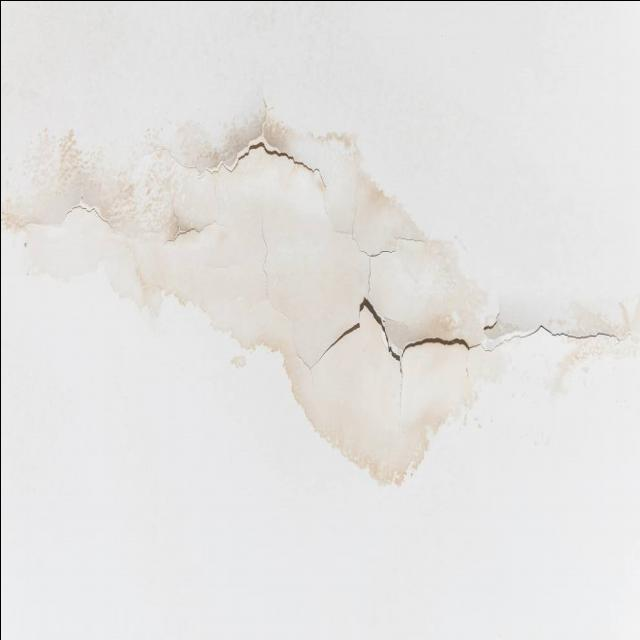Crack: (169, 100, 343, 185), (400, 304, 640, 360), (328, 202, 449, 294), (291, 294, 398, 374), (32, 196, 121, 241), (257, 208, 282, 308), (163, 214, 228, 244), (394, 361, 407, 414), (460, 362, 474, 378)
